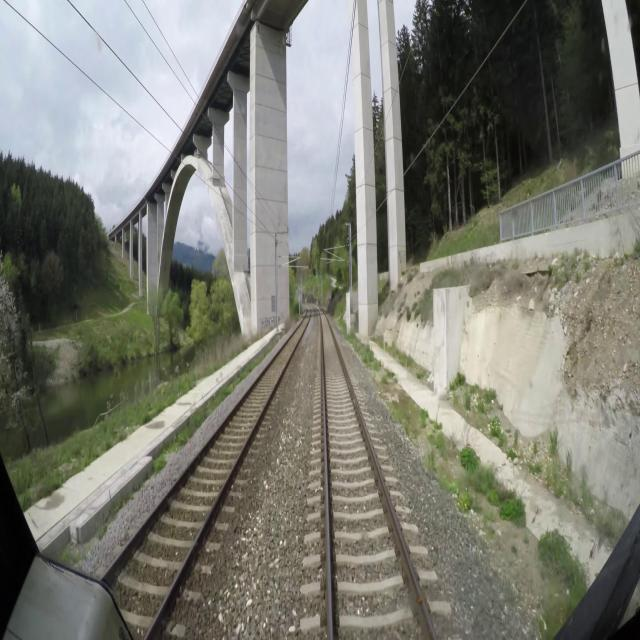rail-track: (110, 308, 309, 639), (319, 309, 432, 639)
